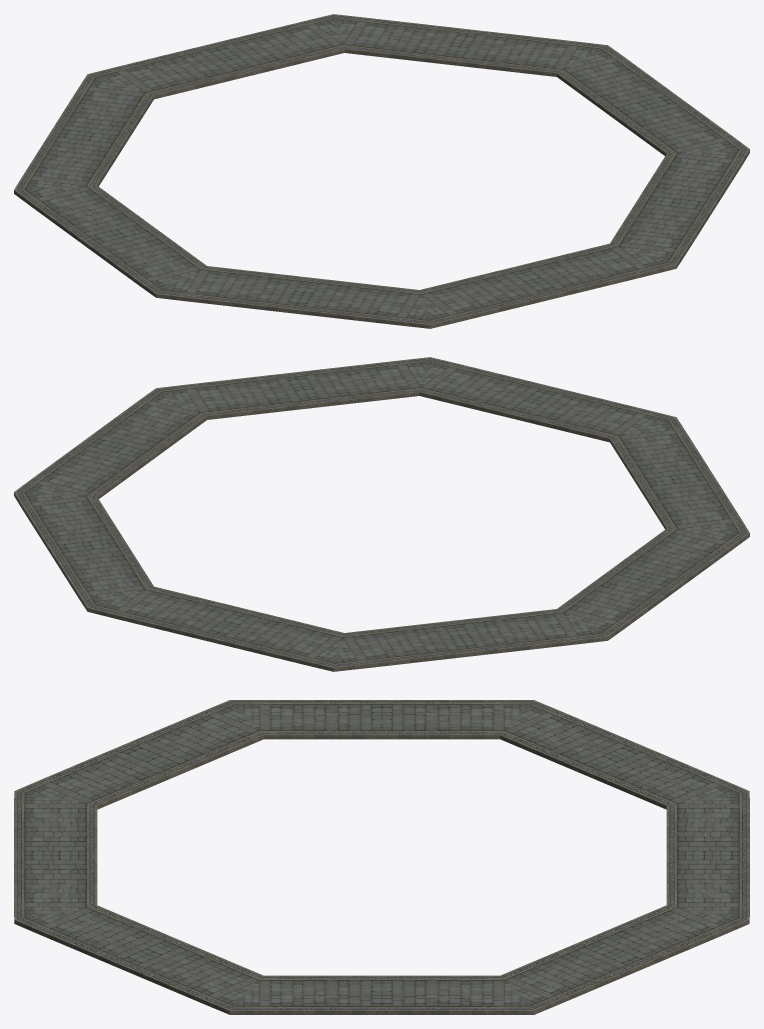
The model's file is s7_chongta_jianzhu_lumian001.FBX.
3 views of the same model, one above another, from view 1: azimuth 30°, elevation 25°; view 2: azimuth 150°, elevation 25°; view 3: azimuth 270°, elevation 25° (orthographic). The views are drawn at different scales.
Parts seen in each view (by area): view 1: Object010; view 2: Object010; view 3: Object010.
Boxes of the visible parts, x1,y1,x2,y2 form: Object010: [14, 14, 749, 328]; Object010: [14, 357, 749, 671]; Object010: [14, 700, 749, 1014].
Size of the model in its own units: 83.26 by 0.493 by 83.26.
